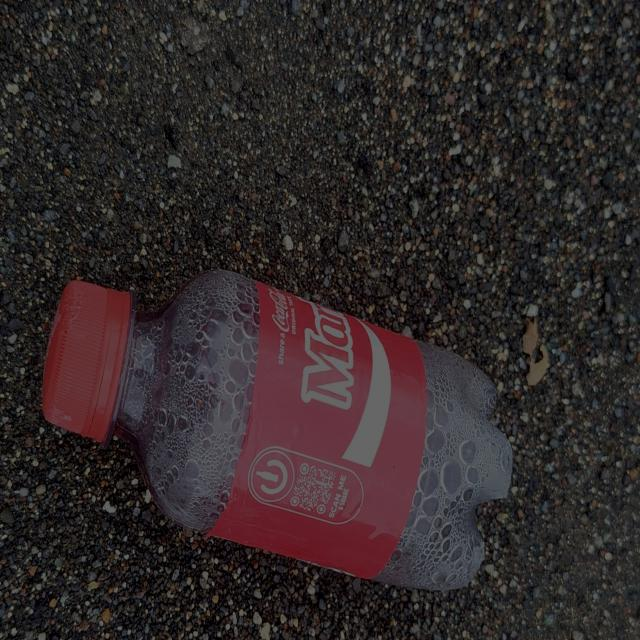plastic: (32, 255, 523, 602)
